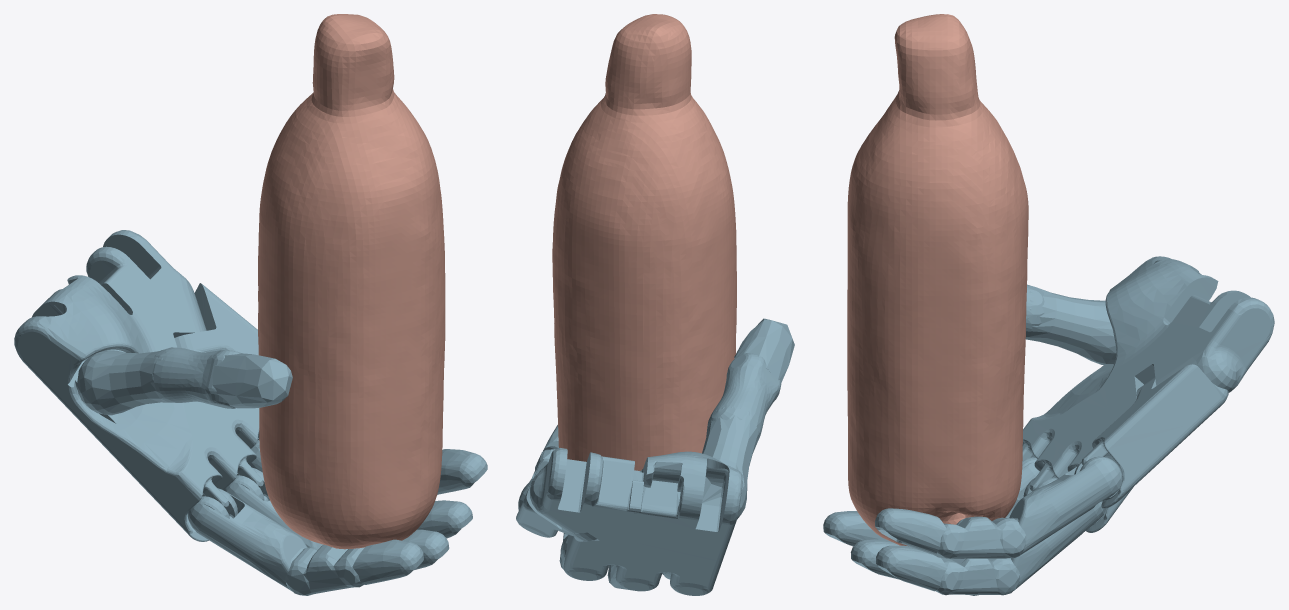
The model's file is 0_joint.glb.
3 views of the same model, side by side, from view 1: azimuth 30°, elevation 25°; view 2: azimuth 150°, elevation 25°; view 3: azimuth 270°, elevation 25° (orthographic). The views are drawn at different scales.
Visible parts, largest first — view 1: world; view 2: world; view 3: world.
Boxes of the visible parts, x1,y1,x2,y2 form: world: (14, 14, 487, 595); world: (516, 14, 794, 595); world: (823, 14, 1274, 595).
Size of the model in its own units: 0.985 by 1.66 by 1.19.
